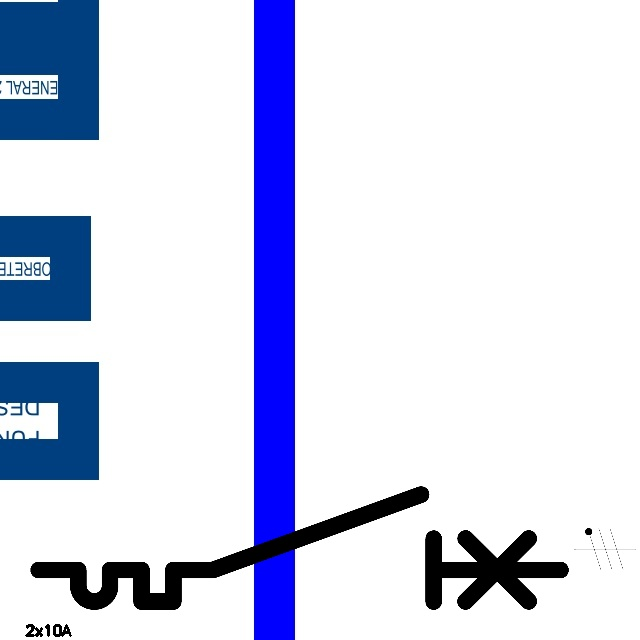interruptor_termomagnetico: (25, 481, 574, 615)
